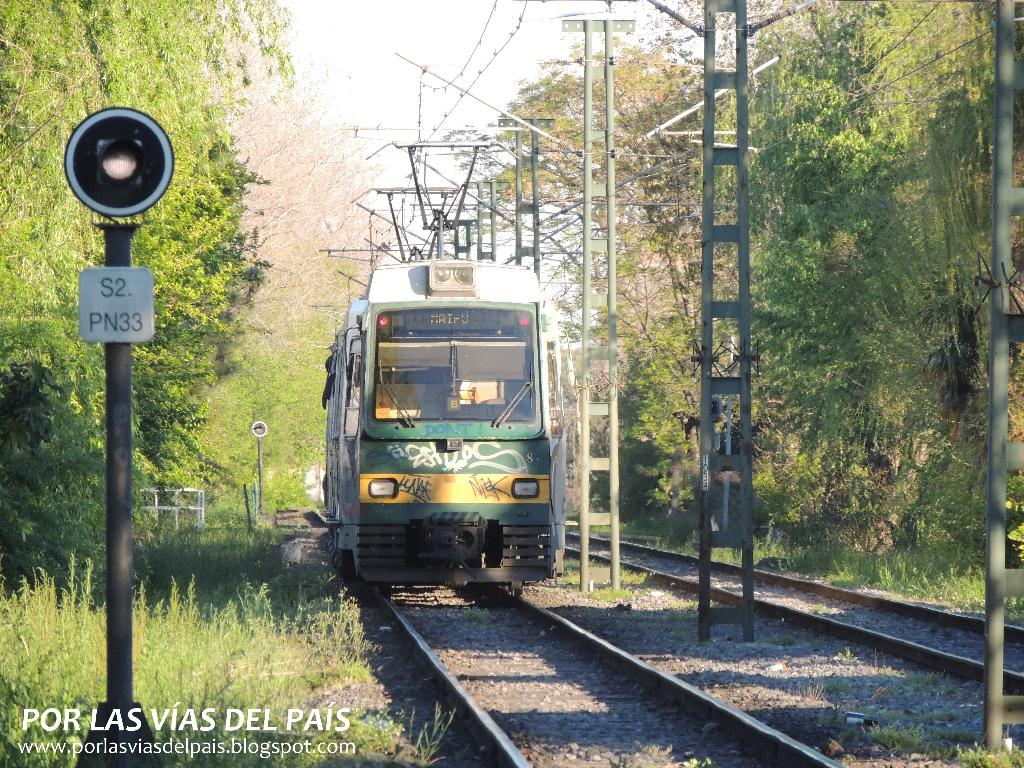Tree: (0, 0, 1024, 569)
